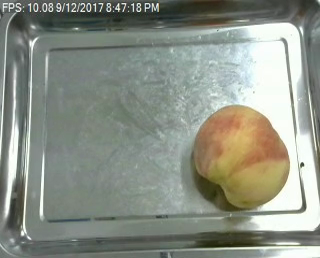Peach: (191, 103, 289, 209)
